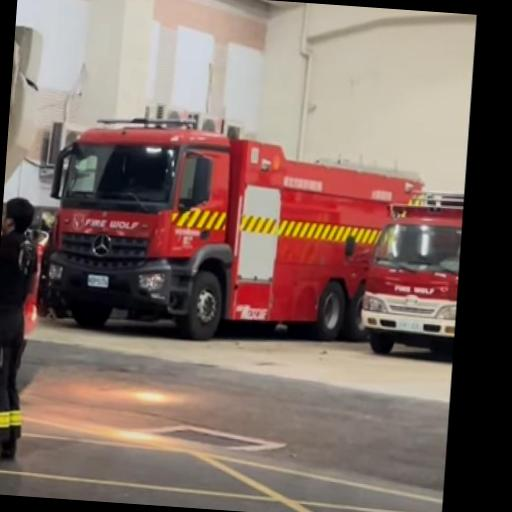fire truck: (41, 89, 423, 348)
